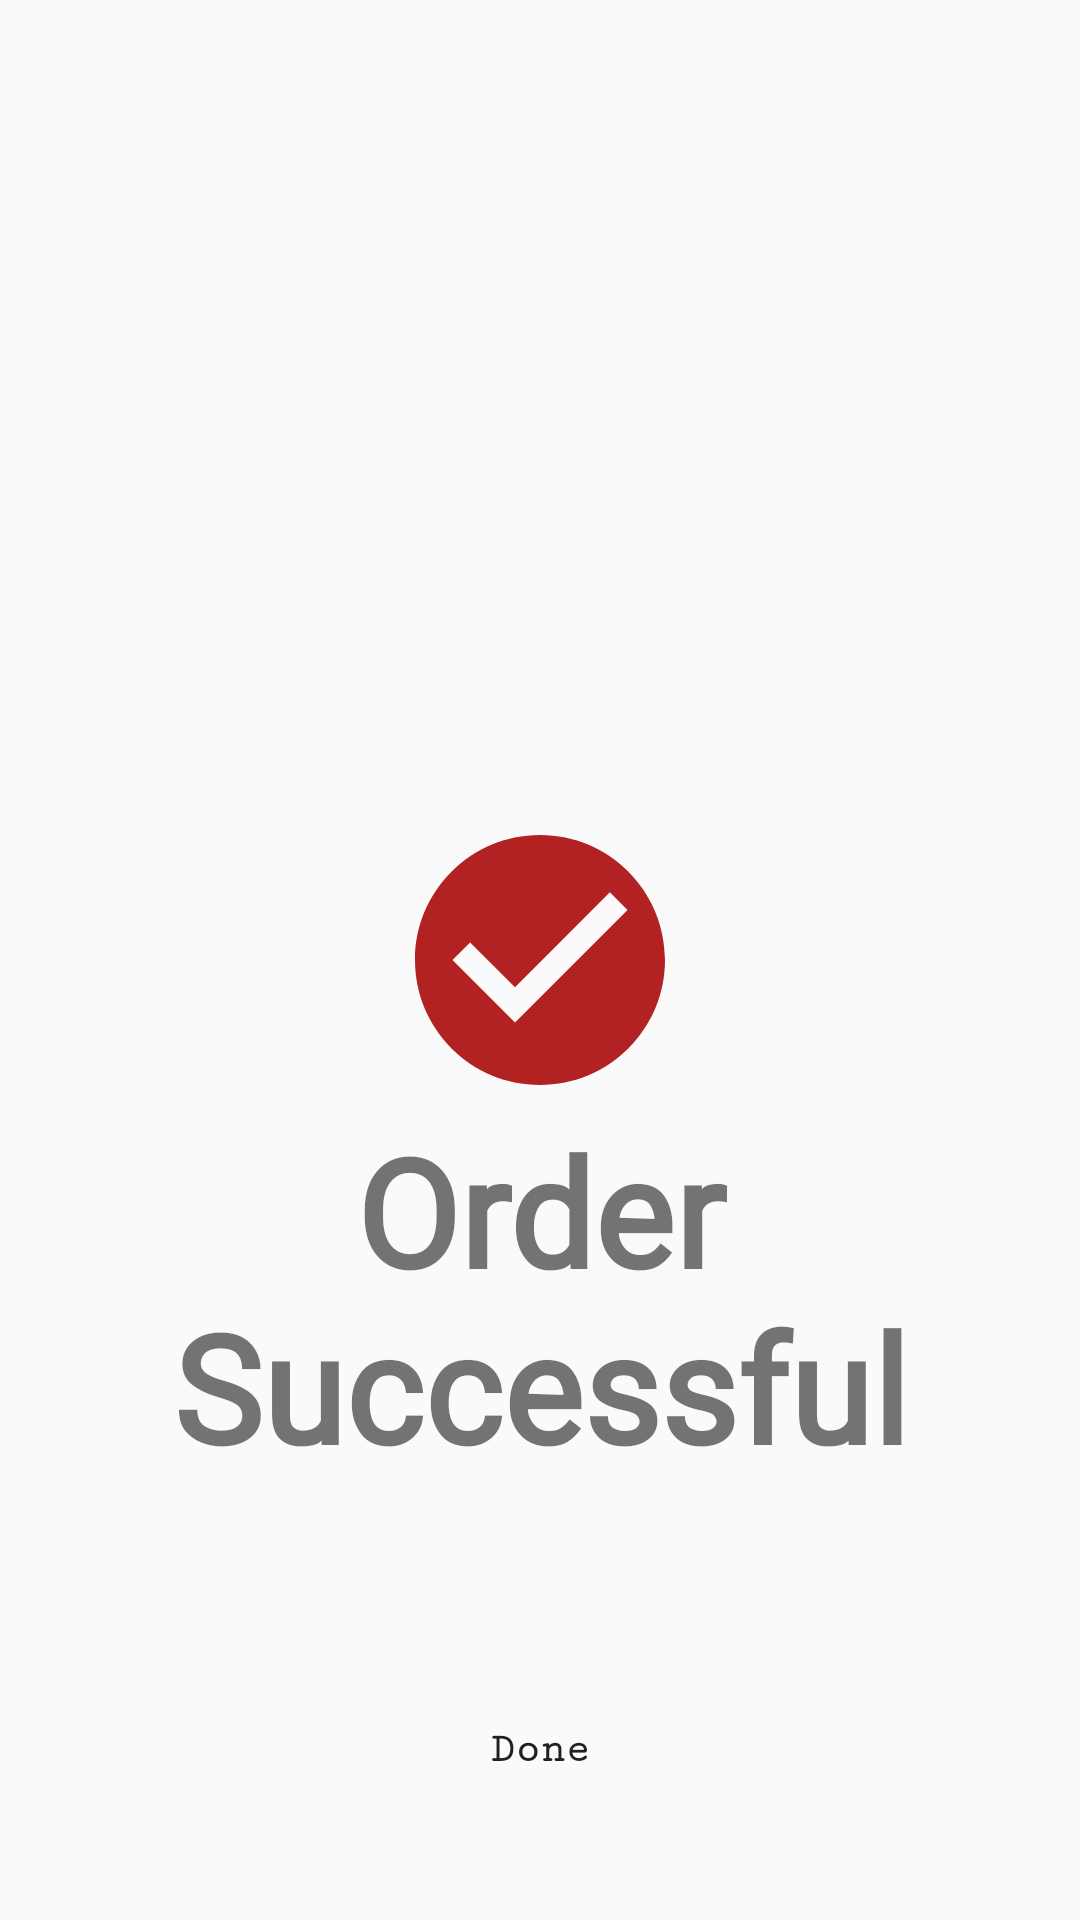

Locate icon controls on the screen. Image size 1080px x 1920px, boxes as bbox=[x1, y1, x2, y2].
successcheck: bbox=[415, 835, 665, 1085]
